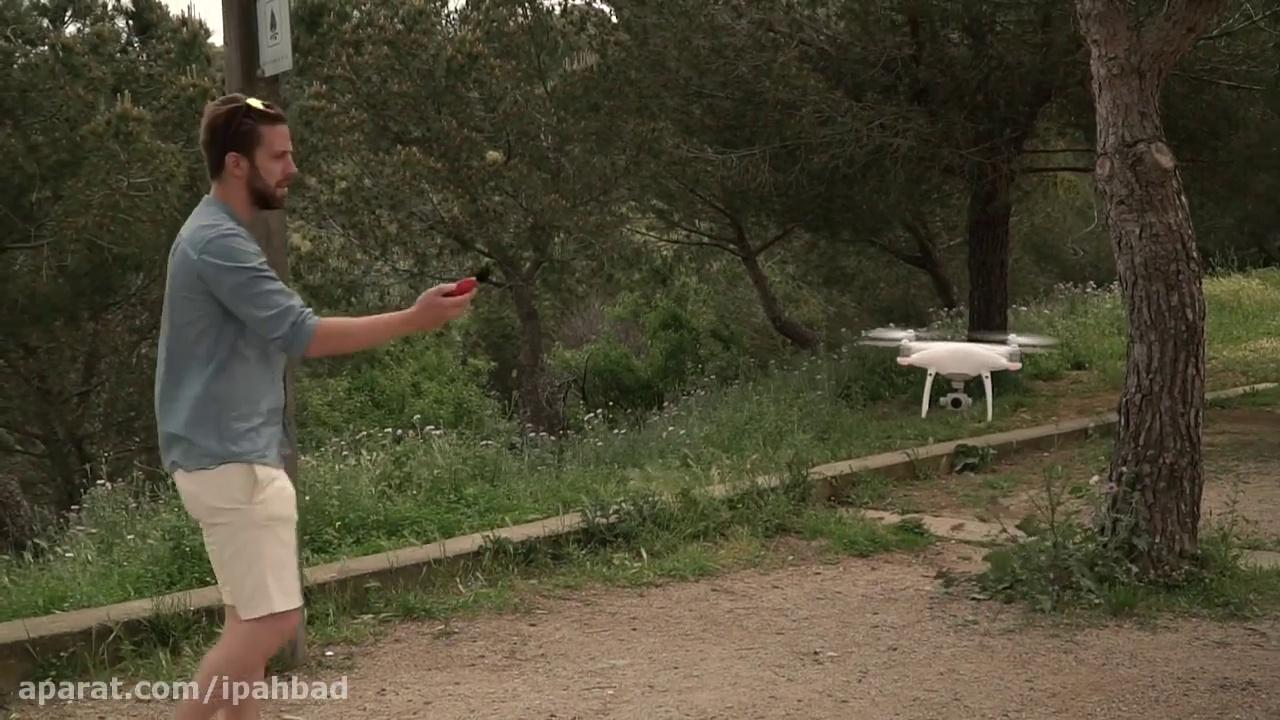drone: (859, 325, 1063, 418)
